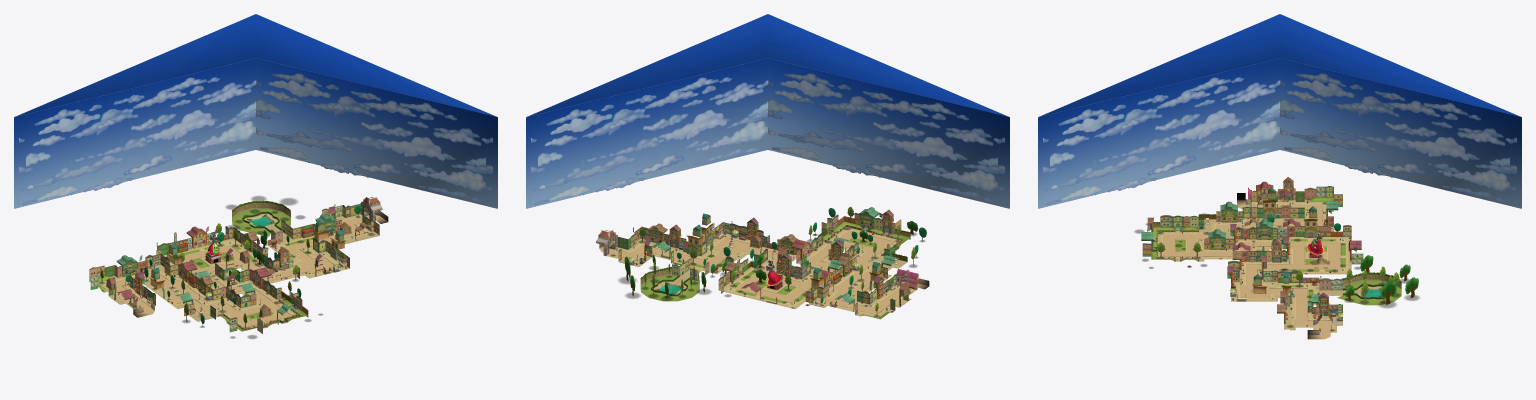
The model's file is loopy_lane.glb.
3 renders of one model, left to right at view 1: azimuth 30°, elevation 25°; view 2: azimuth 150°, elevation 25°; view 3: azimuth 270°, elevation 25°, orthographic.
Visible parts, largest first — view 1: Sky, o6_2, o7_2, o7_1, o6_1, g11, TTpd_outsidefence; view 2: Sky, o8_2, o3_2, o3_1, o8_1, g11; view 3: Sky, o4_2, o5_2, o5_1, o4_1, g11.
Boxes of the visible parts, x1=… form: Sky: x1=14, y1=14, x2=497, y2=208; o6_2: x1=26, y1=85, x2=255, y2=200; o7_2: x1=256, y1=80, x2=485, y2=192; o7_1: x1=256, y1=73, x2=492, y2=203; o6_1: x1=19, y1=77, x2=255, y2=204; g11: x1=232, y1=208, x2=290, y2=236; TTpd_outsidefence: x1=232, y1=200, x2=290, y2=219; Sky: x1=526, y1=14, x2=1009, y2=208; o8_2: x1=538, y1=85, x2=767, y2=200; o3_2: x1=768, y1=80, x2=997, y2=192; o3_1: x1=768, y1=73, x2=1004, y2=203; o8_1: x1=531, y1=77, x2=767, y2=204; g11: x1=640, y1=274, x2=699, y2=301; Sky: x1=1038, y1=14, x2=1521, y2=208; o4_2: x1=1050, y1=85, x2=1279, y2=200; o5_2: x1=1280, y1=80, x2=1509, y2=192; o5_1: x1=1280, y1=73, x2=1516, y2=203; o4_1: x1=1043, y1=77, x2=1279, y2=204; g11: x1=1337, y1=280, x2=1401, y2=305.
Size of what is drawn, in the model's own units: 948 by 482 by 821.
Materials: 445 (432 with a texture image).
